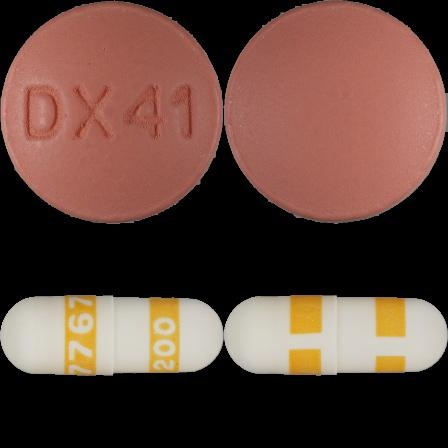10544-928: (0, 0, 224, 224)
